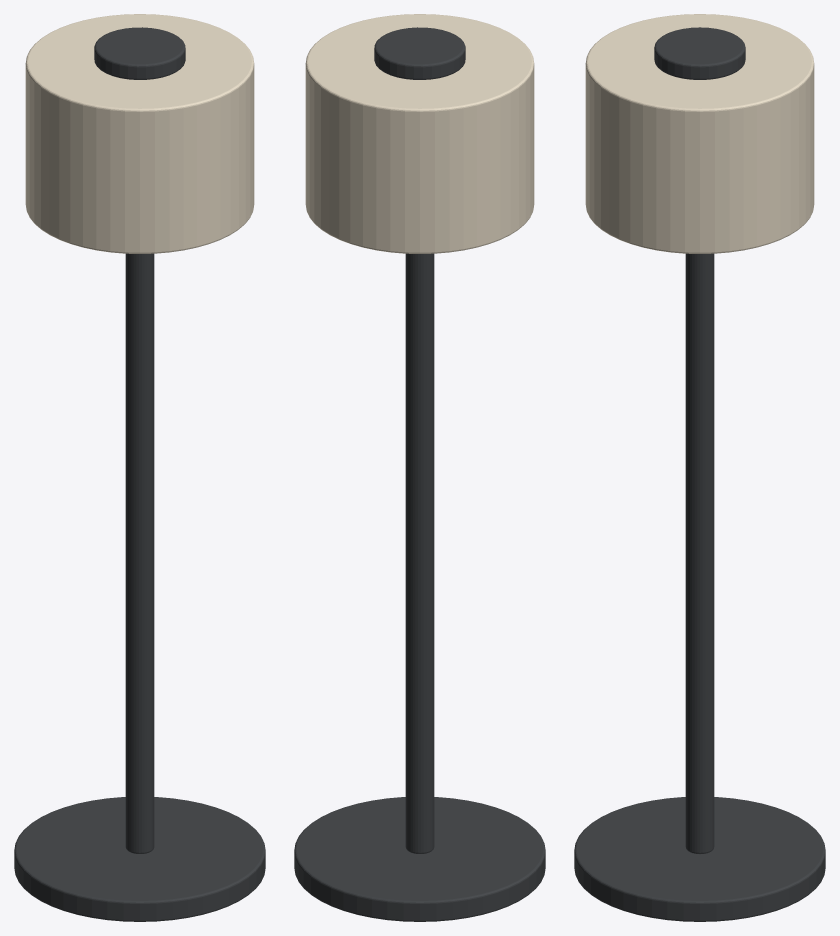
The model's file is minimal-drum-floor-lamp-01.glb.
3 renders of one model, left to right at view 1: azimuth 30°, elevation 25°; view 2: azimuth 150°, elevation 25°; view 3: azimuth 270°, elevation 25°, orthographic.
Parts seen in each view (by area): view 1: minimal-drum-floor-lamp-01; view 2: minimal-drum-floor-lamp-01; view 3: minimal-drum-floor-lamp-01.
Part boxes in pixels (bbox=[...]): minimal-drum-floor-lamp-01: bbox=[14, 14, 265, 921]; minimal-drum-floor-lamp-01: bbox=[294, 14, 545, 921]; minimal-drum-floor-lamp-01: bbox=[574, 14, 825, 921].
Bounding box in the file's own units: 0.44 × 1.59 × 0.44.
